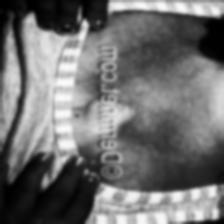Unclassified: (78, 91, 96, 137), (118, 94, 136, 127)
